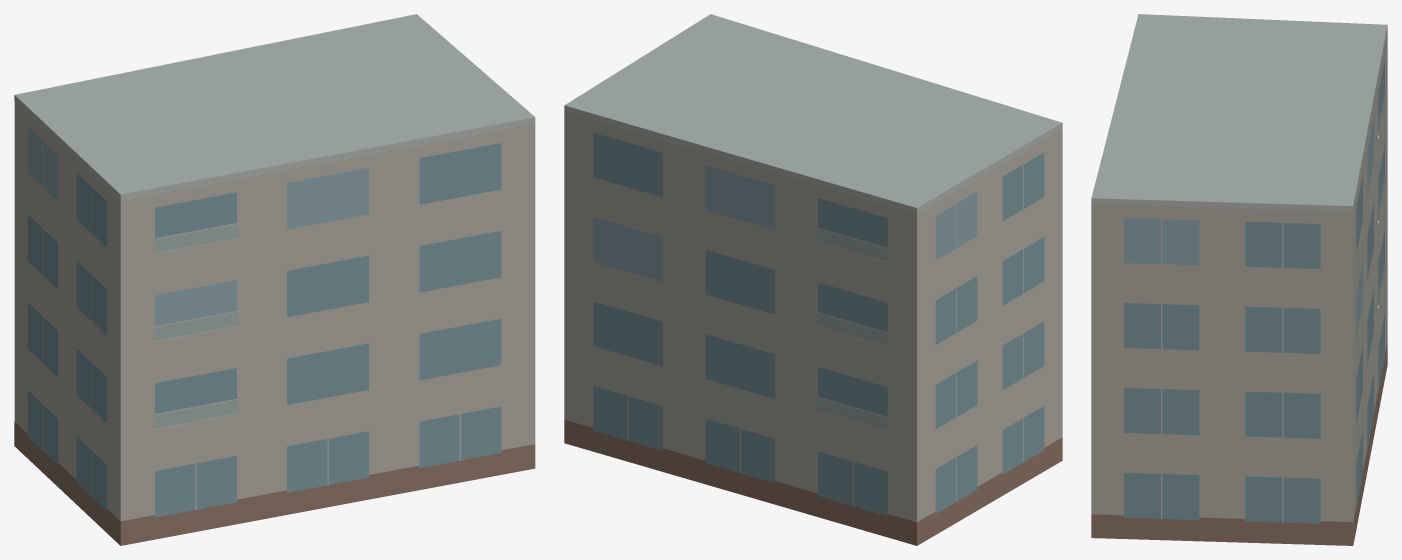
The model's file is survey-upis-32961258.glb.
3 renders of one model, left to right at view 1: azimuth 30°, elevation 25°; view 2: azimuth 150°, elevation 25°; view 3: azimuth 270°, elevation 25°, orthographic. The views are drawn at different scales.
Parts seen in each view (by area): view 1: survey-upis-32961258.tmp; view 2: survey-upis-32961258.tmp; view 3: survey-upis-32961258.tmp.
Boxes of the visible parts, x1=… form: survey-upis-32961258.tmp: x1=14, y1=14, x2=535, y2=545; survey-upis-32961258.tmp: x1=564, y1=14, x2=1062, y2=545; survey-upis-32961258.tmp: x1=1091, y1=14, x2=1387, y2=545.
Bounding box in the file's own units: 16.55 × 13.63 × 10.78.
